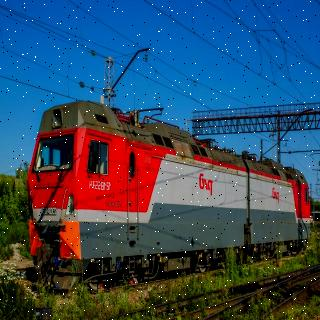poezd: (33, 101, 311, 287)
